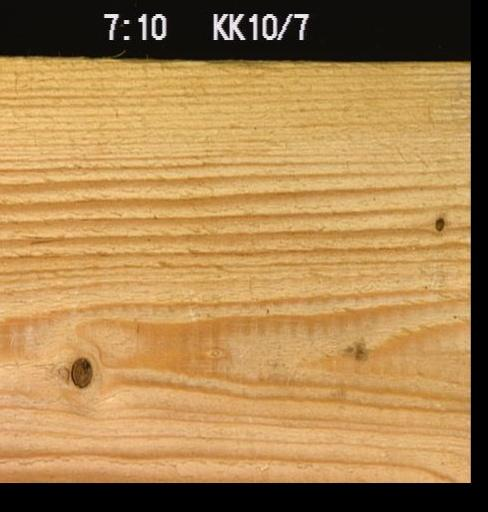dry_knot: (67, 355, 92, 388), (432, 214, 443, 232)
